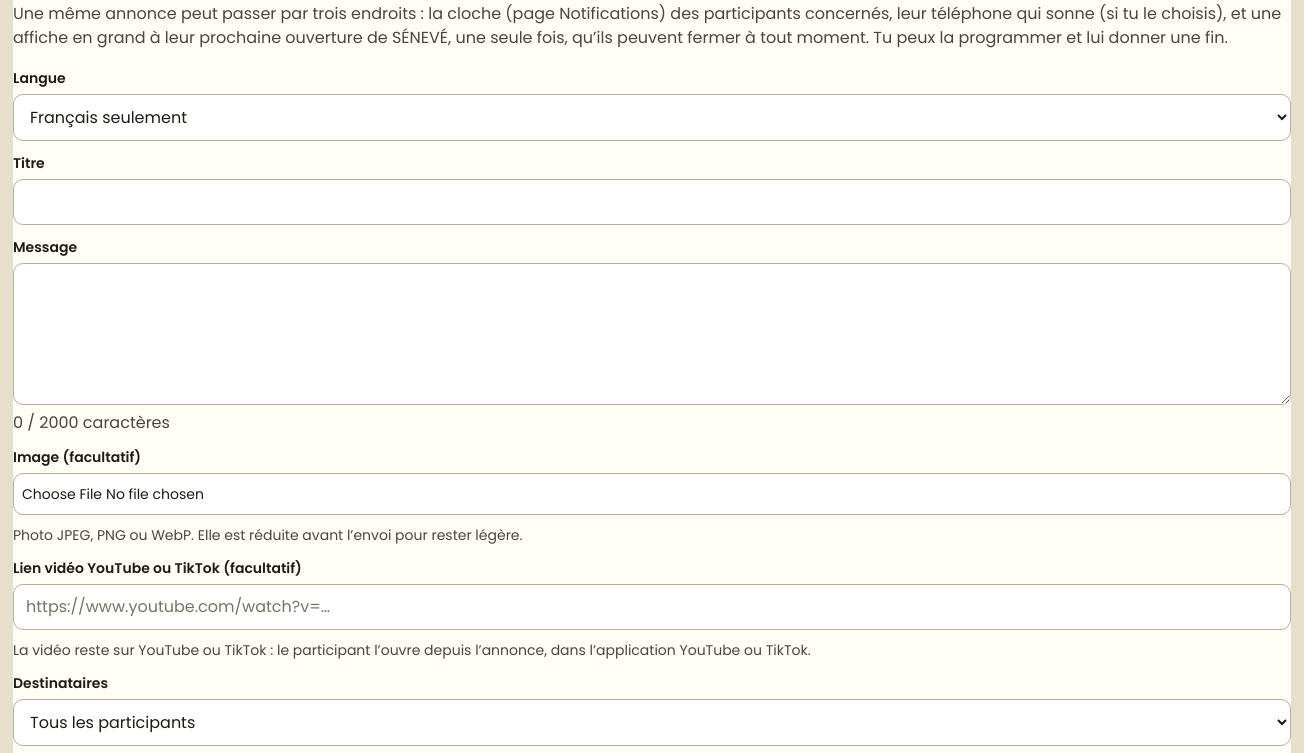
Test case: image et vidéo dans les annonces (décision du 29/10/2026) › l’administration refuse un lien hors YouTube/TikTok
The image size is (1304, 753).
Type "T" into the field labelled "Titre" at (652, 202), box left=13, top=179, right=1291, bottom=225
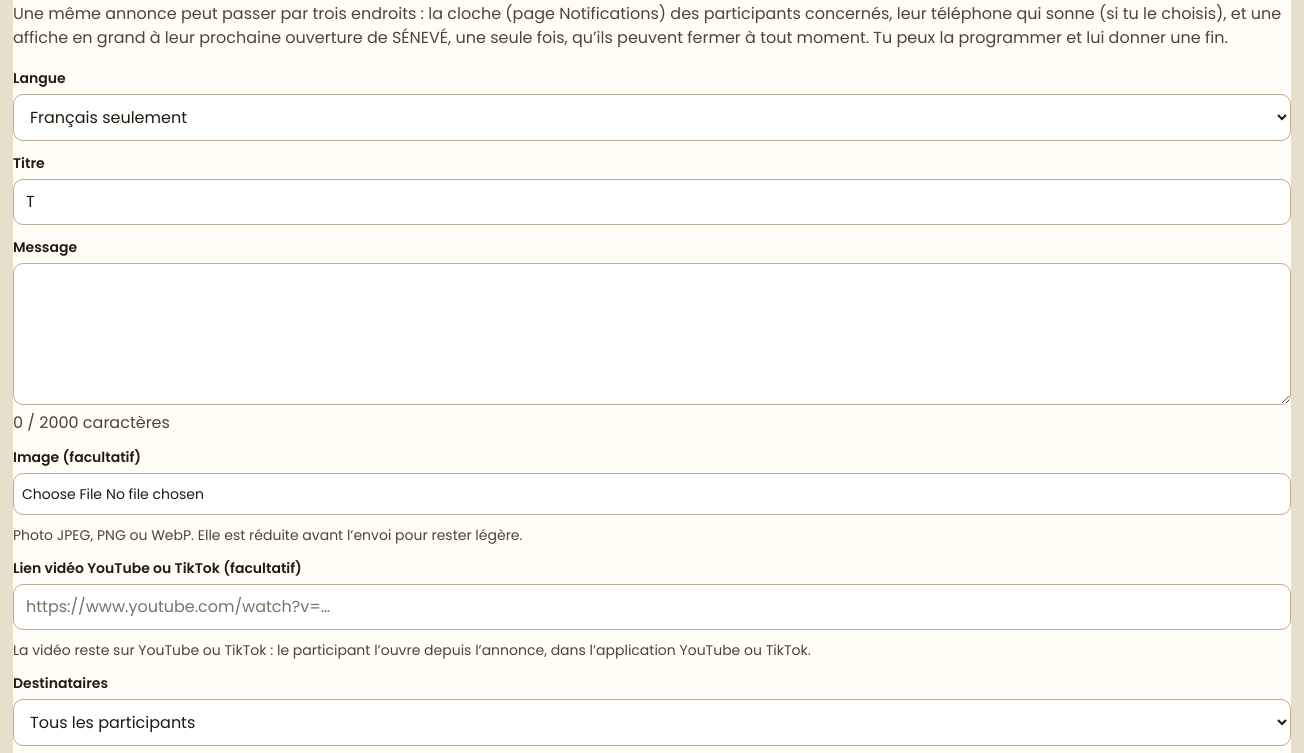
Type "X" into the text box labelled "Message" at (652, 334), box left=13, top=263, right=1291, bottom=405
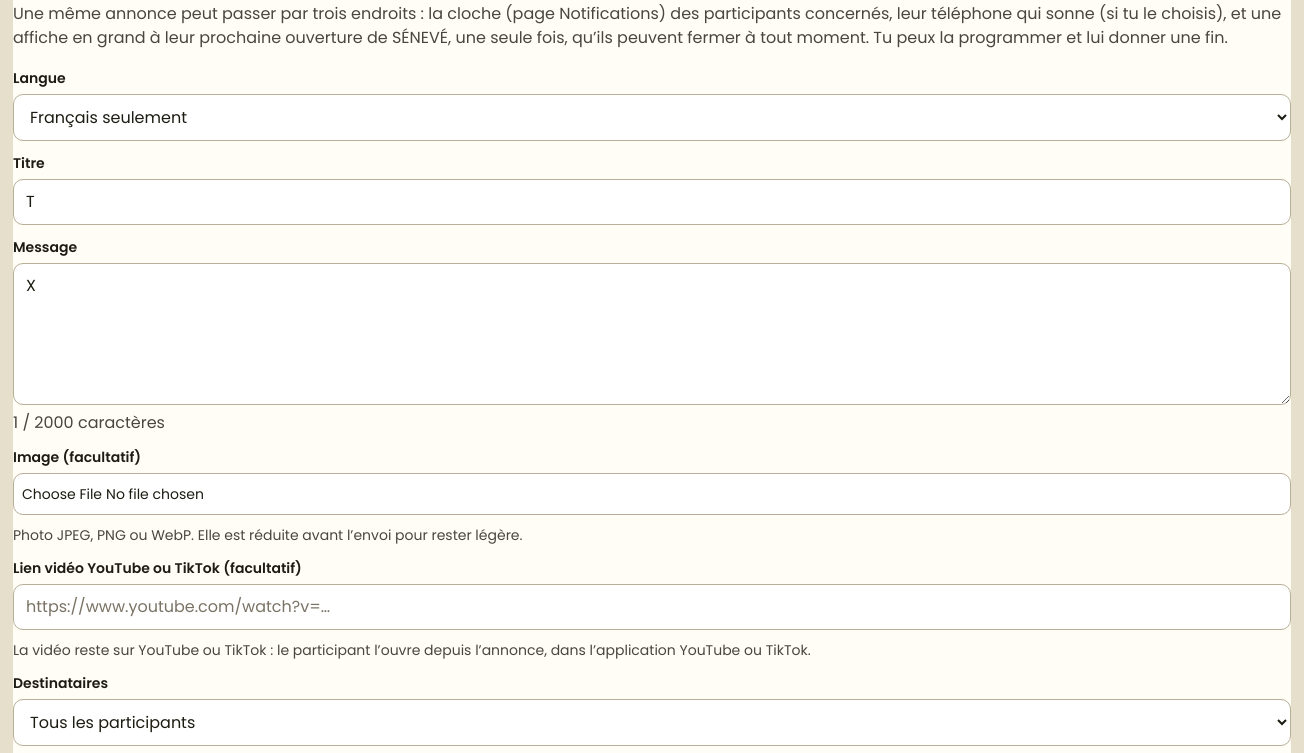
Type "https://exemple.com/video" into the field labelled "Lien vidéo YouTube ou TikTok (facultatif)" at (652, 607), box left=13, top=584, right=1291, bottom=630
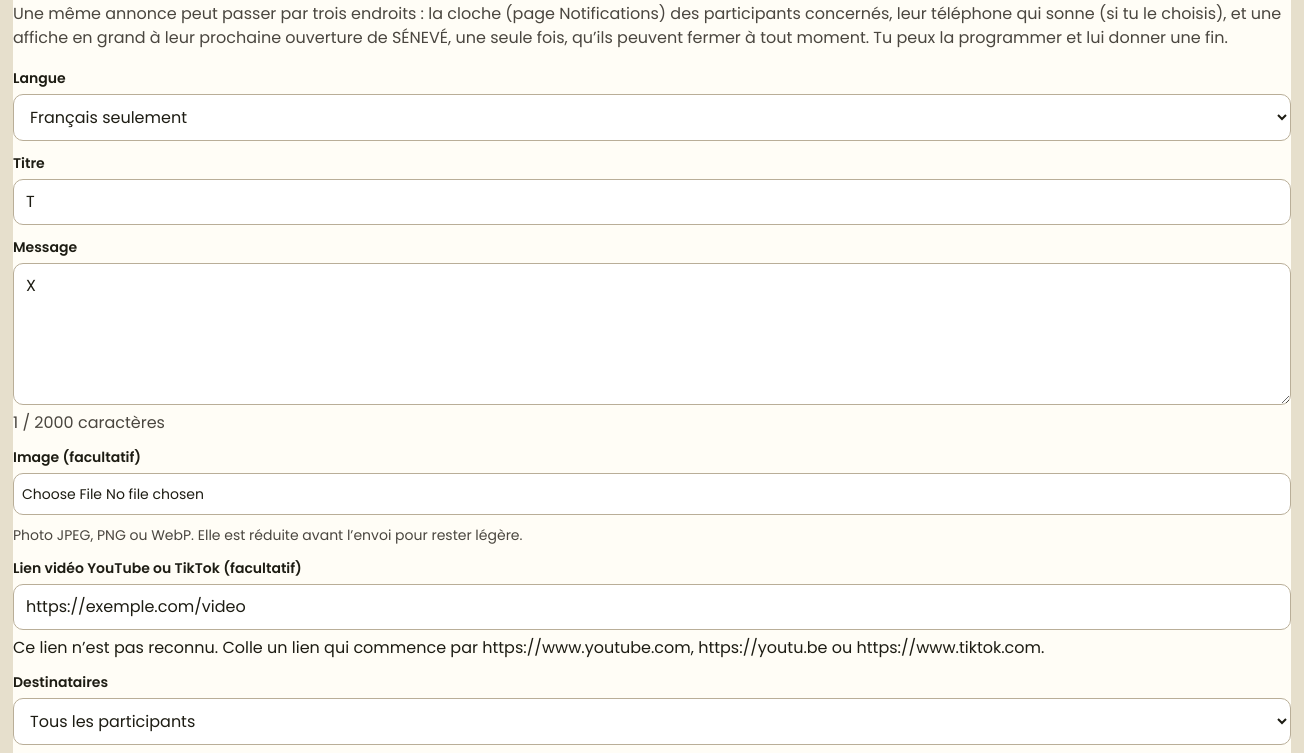
expect the message shows "Ce lien n’est pas reconnu": met, box left=13, top=636, right=1044, bottom=659
Replace the text in the field labelled "Lien vidéo YouTube ou TikTok (facultatif)" with "https://www.tiktok.com/@drjustin/video/7300000000000000000" at (652, 607), box left=13, top=584, right=1291, bottom=630
(page scrolled)
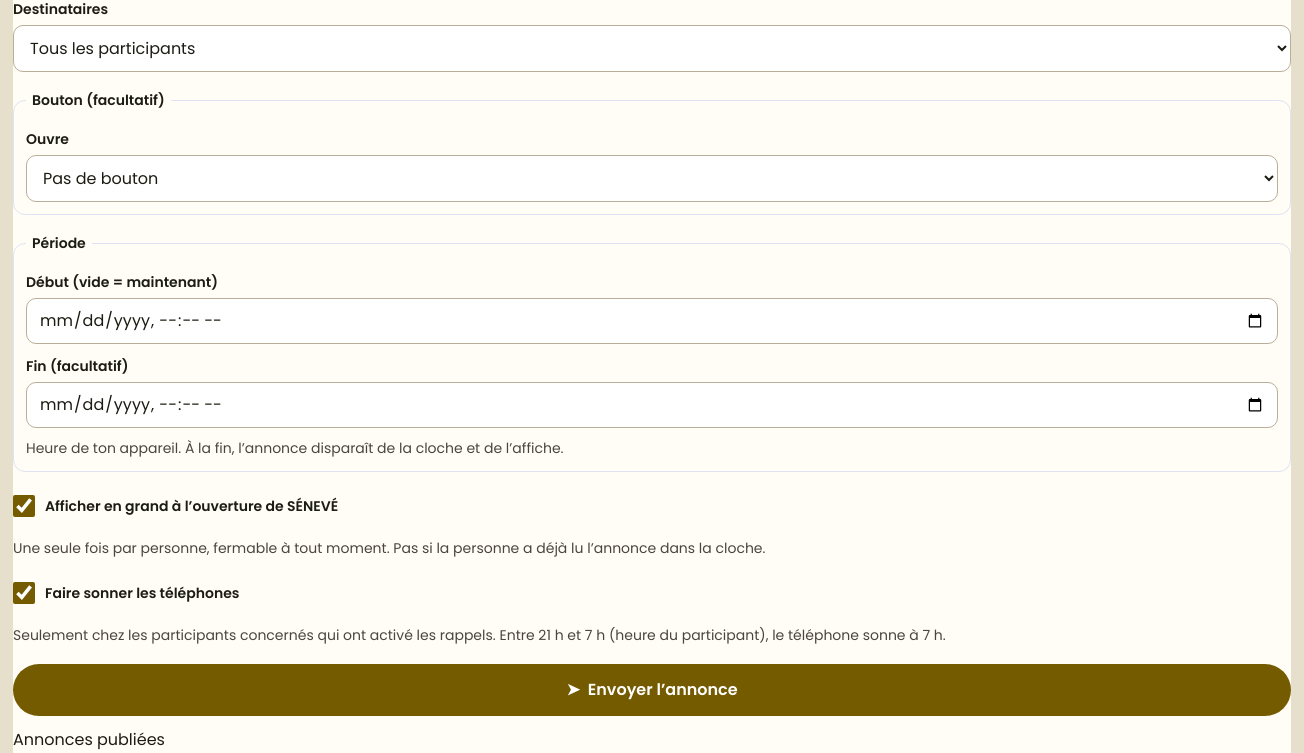
expect the button "➤ Envoyer l’annonce" is enabled: met, box left=13, top=664, right=1291, bottom=716
